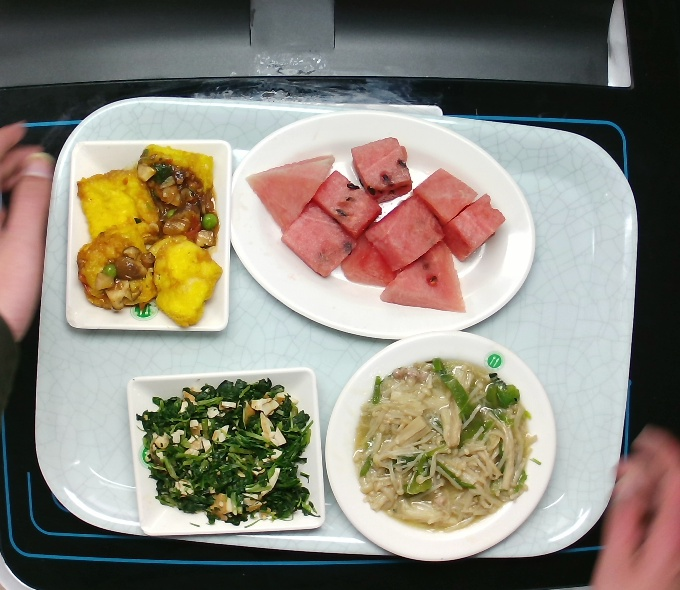wcq-CuiPiDouFu: (71, 139, 230, 332)
wcq-JinZhenGu: (344, 349, 553, 539)
wcq-MaLanTouChaoDouGan: (131, 375, 326, 532)
wcq-XiGua: (238, 132, 511, 320)
